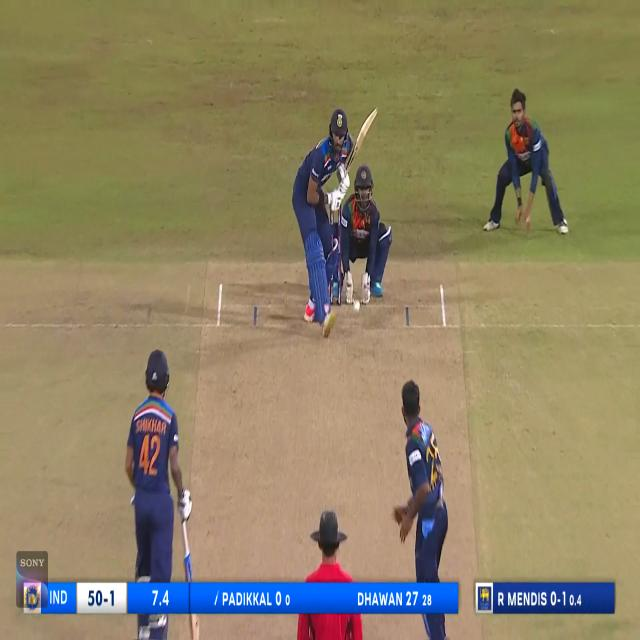ball: (353, 299, 360, 314)
